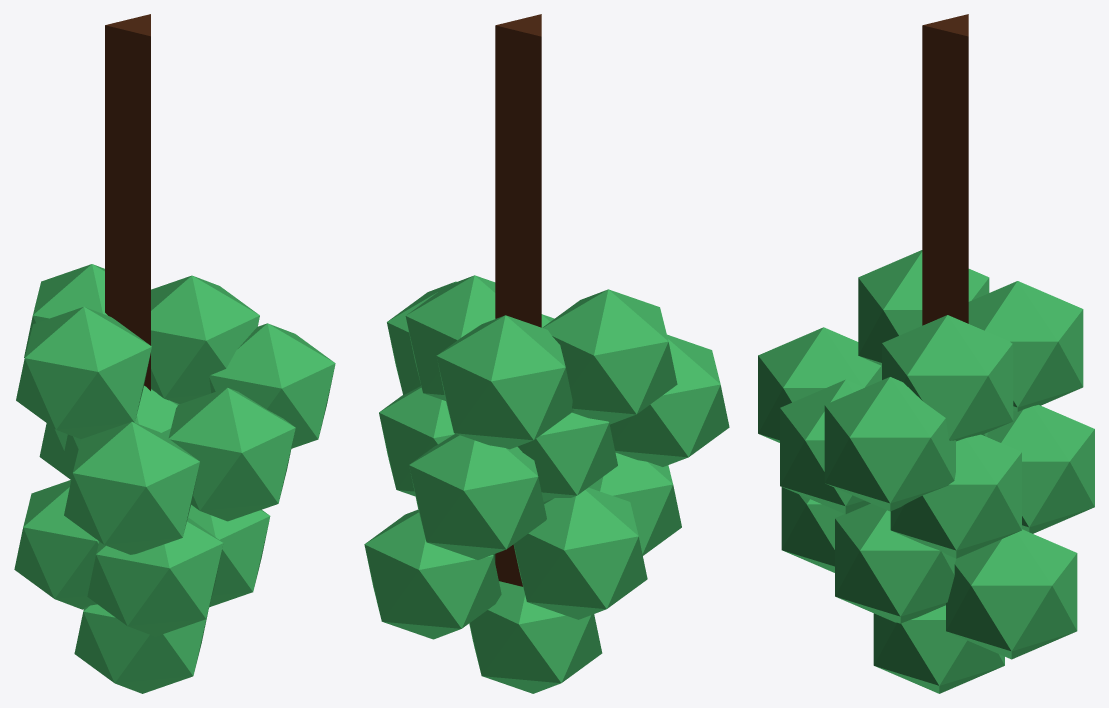
The model's file is GreenGrape.fbx.
3 renders of one model, left to right at view 1: azimuth 30°, elevation 25°; view 2: azimuth 150°, elevation 25°; view 3: azimuth 270°, elevation 25°, orthographic.
Parts seen in each view (by area): view 1: Icosphere.013; view 2: Icosphere.013; view 3: Icosphere.013.
Part boxes in pixels (<box>): Icosphere.013: <box>14,14,335,693</box>; Icosphere.013: <box>364,14,729,693</box>; Icosphere.013: <box>758,14,1094,693</box>.
Bounding box in the file's own units: 210 × 464 × 212.
